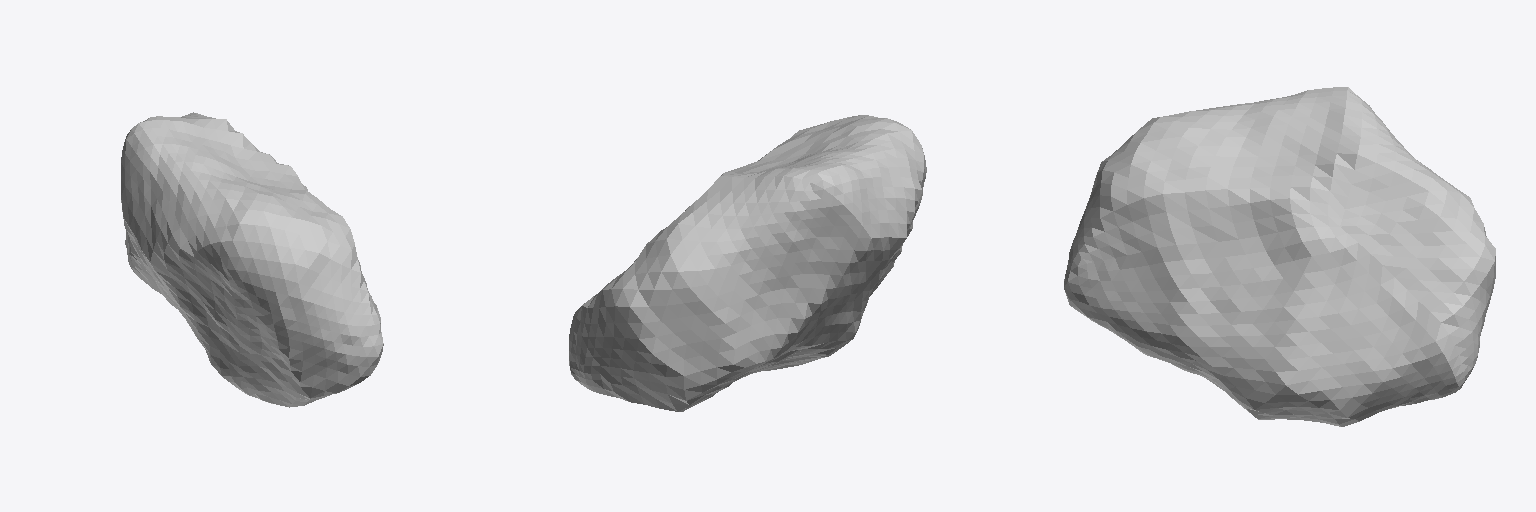
File: rock2.obj
3 renders of one model, left to right at view 1: azimuth 30°, elevation 25°; view 2: azimuth 150°, elevation 25°; view 3: azimuth 270°, elevation 25°, orthographic.
Visible parts, largest first — view 1: rock; view 2: rock; view 3: rock.
Part boxes in pixels (x1,y1,x2,y2): rock: (121,112,383,407); rock: (569,115,926,411); rock: (1064,87,1495,426).
Size of the model in its own units: 1.28 by 1.28 by 1.95.